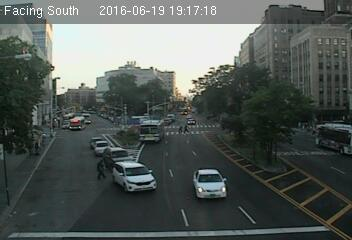neg: (301, 118, 314, 135), (81, 112, 91, 125)
pos: (90, 157, 108, 181), (176, 125, 184, 136), (182, 124, 190, 134)
